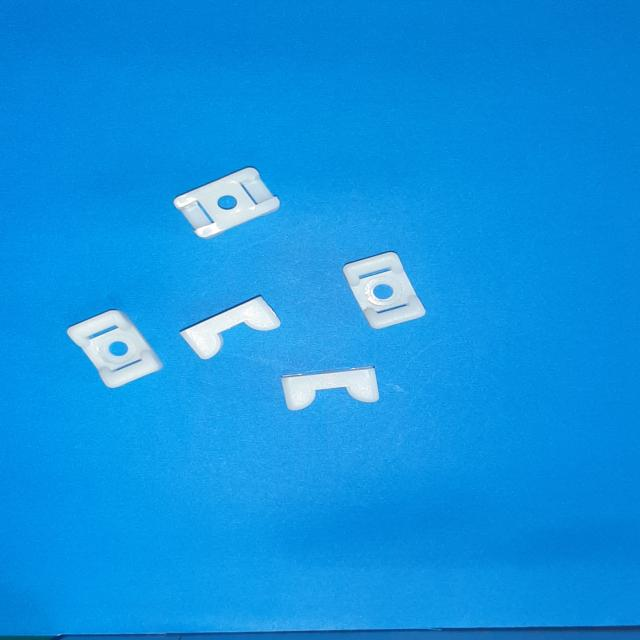false_1: (173, 168, 280, 239)
false_2: (180, 296, 280, 359), (282, 366, 380, 410)
true: (67, 310, 163, 389), (343, 251, 425, 329)
true_center: (108, 341, 128, 356), (373, 284, 393, 299)
